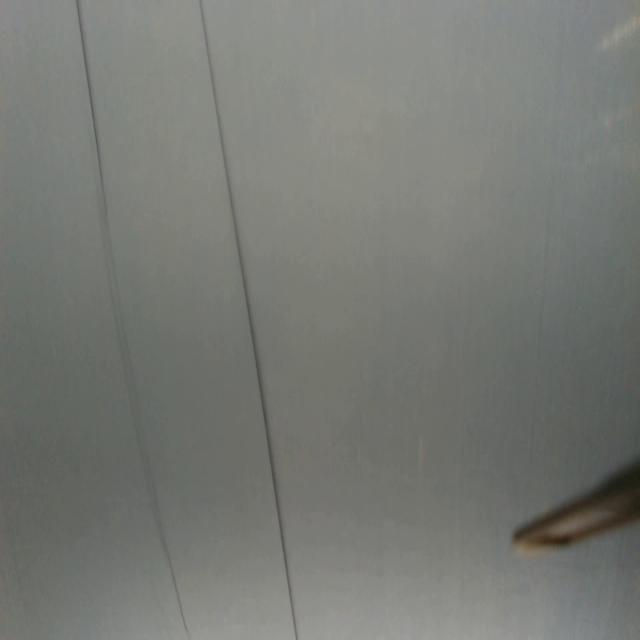crease: (76, 0, 190, 640), (200, 1, 299, 640), (522, 0, 568, 509)
